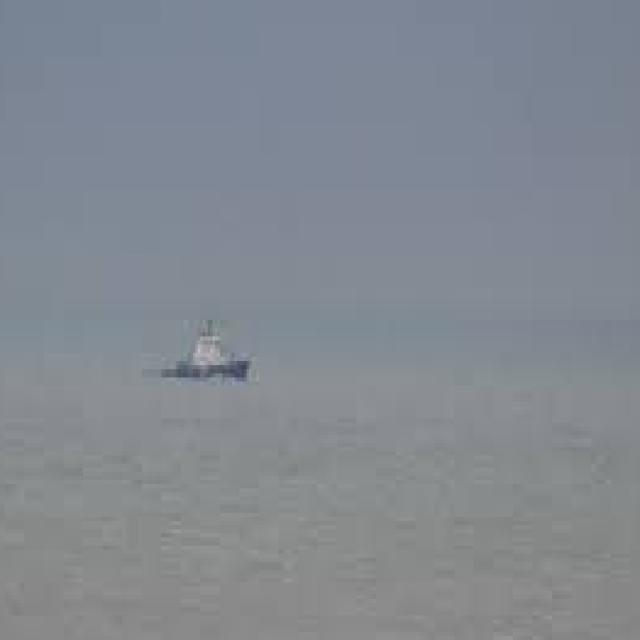houseboat: (148, 310, 249, 387)
